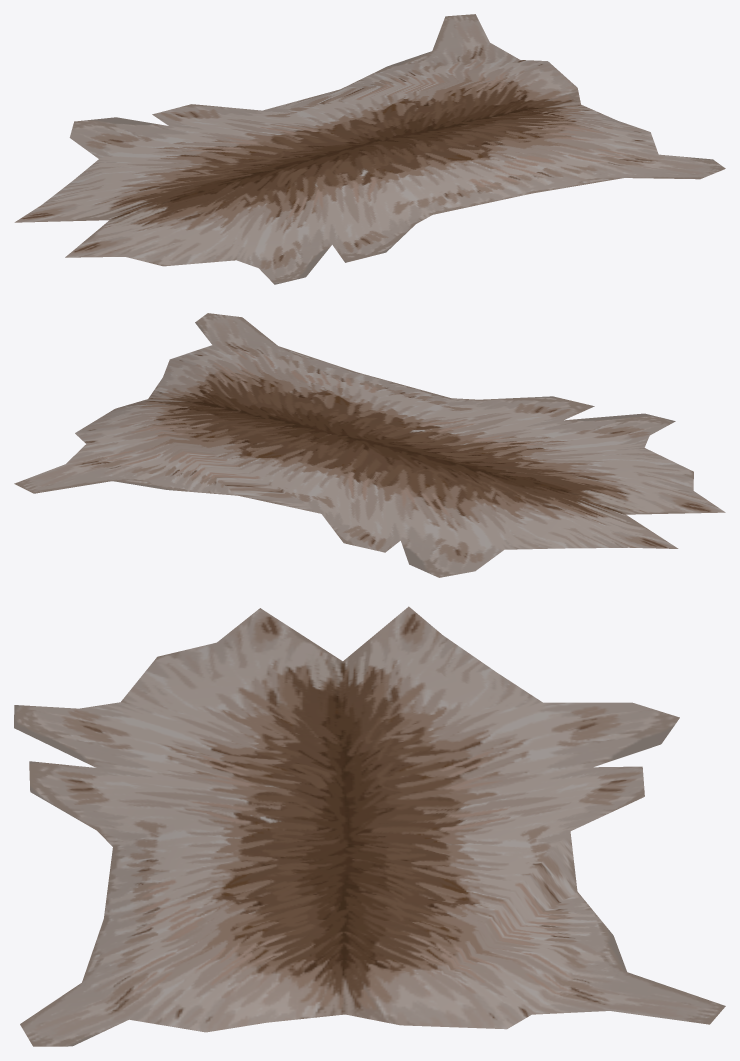
The model's file is SM_PROP_rug_battle_03.fbx.
3 renders of one model, top to bottom at view 1: azimuth 30°, elevation 25°; view 2: azimuth 150°, elevation 25°; view 3: azimuth 270°, elevation 25°, orthographic. The views are drawn at different scales.
Parts seen in each view (by area): view 1: SM_PROP_rug_battle_03; view 2: SM_PROP_rug_battle_03; view 3: SM_PROP_rug_battle_03.
Boxes of the visible parts, x1=… form: SM_PROP_rug_battle_03: x1=14, y1=14, x2=725, y2=284; SM_PROP_rug_battle_03: x1=14, y1=313, x2=725, y2=577; SM_PROP_rug_battle_03: x1=14, y1=606, x2=725, y2=1046.
Size of the model in its own units: 229 by 5.11 by 157.
